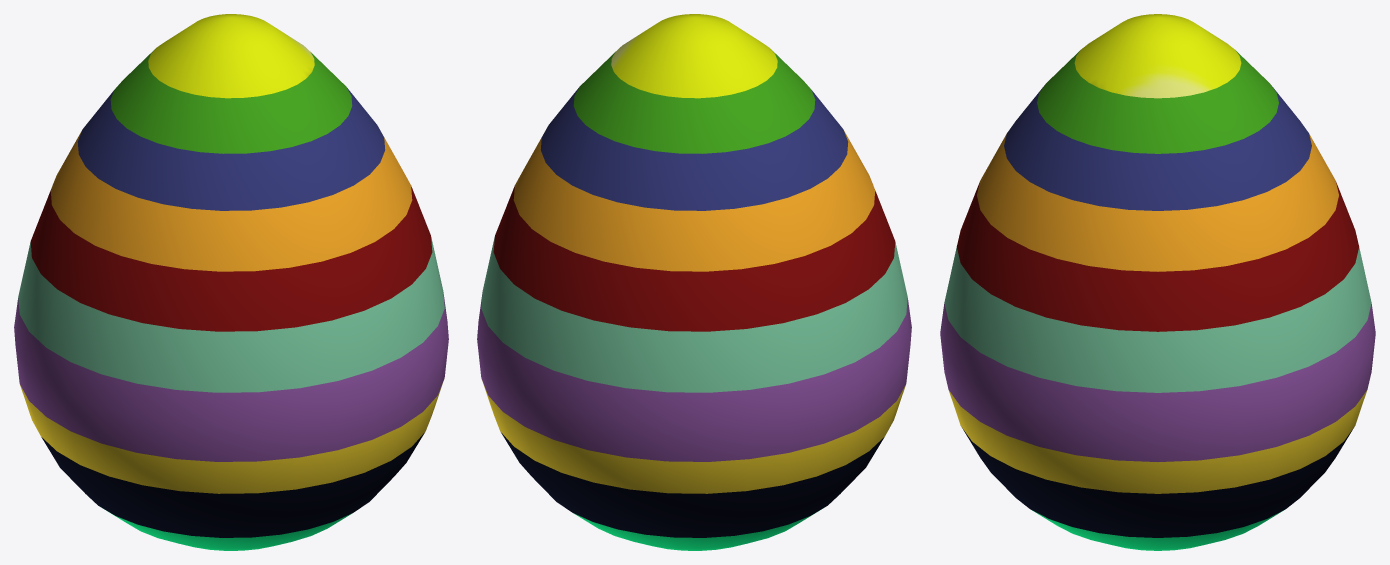
File: Nuke_Egg.FBX
3 views of the same model, side by side, from view 1: azimuth 30°, elevation 25°; view 2: azimuth 150°, elevation 25°; view 3: azimuth 270°, elevation 25° (orthographic).
Parts seen in each view (by area): view 1: Sphere003; view 2: Sphere003; view 3: Sphere003.
Boxes of the visible parts, x1,y1,x2,y2 form: Sphere003: (14,14,448,550); Sphere003: (477,14,911,550); Sphere003: (940,14,1375,550).
Size of the model in its own units: 37.47 by 48.66 by 37.47.
1 material, 1 textured.
